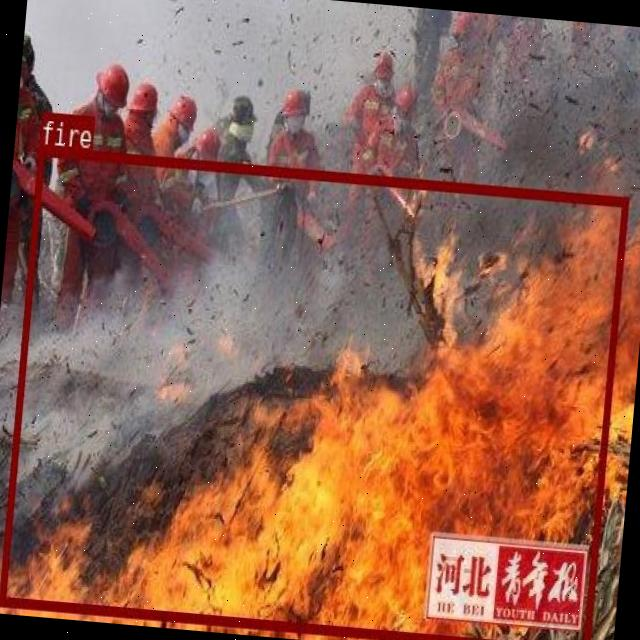fire: (0, 144, 628, 640)
